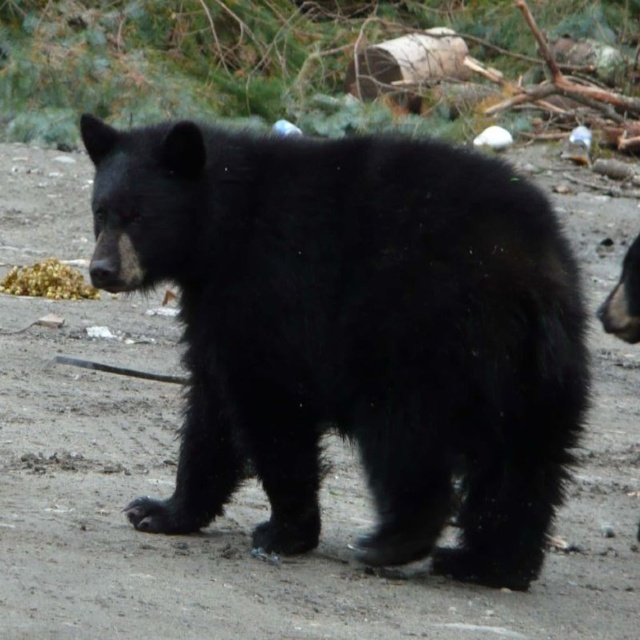Bear: (74, 114, 593, 592), (594, 232, 639, 345)
